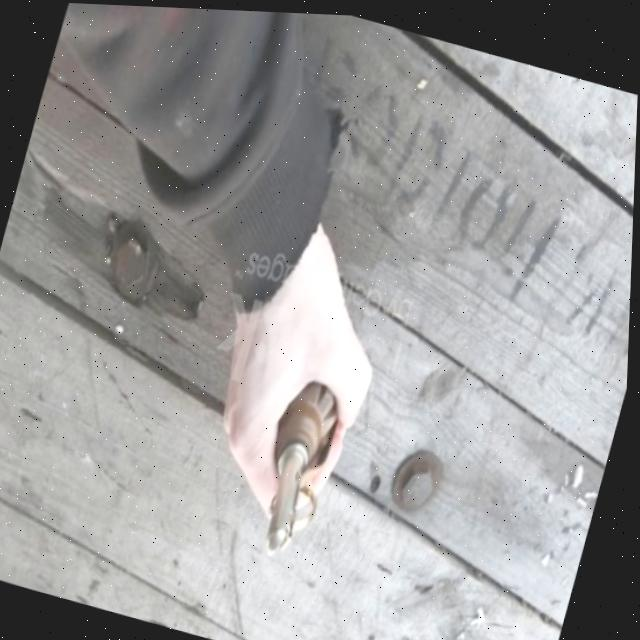grenade: (246, 366, 347, 559)
